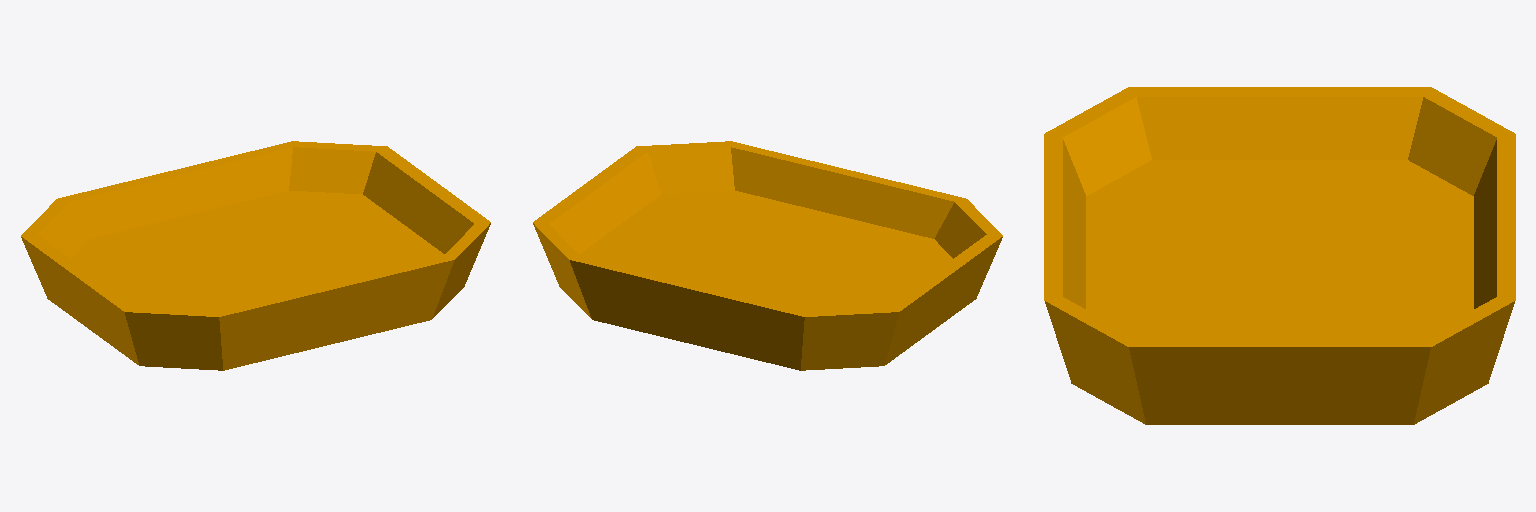
robot.urdf — bakingtray:
<?xml version="1.0"?>
<robot name="bakingtray">
  <link name="bakingtray">
    <inertial>
        <origin rpy="0 0 0" xyz="0 0 0"/>
        <mass value="0.01"/>
        <inertia ixx="0.01" ixy="0" ixz="0" iyy="0.077" iyz="0" izz="0.087"/>
    </inertial>
    <visual>
      <geometry>
        <mesh filename="./bakingtray_visual.obj"/>
      </geometry>
    </visual>
    <collision>
      <geometry>
        <mesh filename="./bakingtray_collision.obj"/>
      </geometry>
    </collision>
  </link>
</robot>

--- What the picture shows (computed from the rendered views, not written in the file) ---
3 views of the same robot in one strip: view 1: azimuth 30°, elevation 25°; view 2: azimuth 150°, elevation 25°; view 3: azimuth 270°, elevation 25° (orthographic).
Robot: bakingtray — 1 links, 0 joints (none); root link bakingtray; default pose: all joints at 0.
Visible links, largest first — view 1: bakingtray; view 2: bakingtray; view 3: bakingtray.
Boxes of the visible links, x1=… form: bakingtray: x1=21, y1=141, x2=490, y2=370; bakingtray: x1=533, y1=141, x2=1002, y2=370; bakingtray: x1=1044, y1=87, x2=1515, y2=424.
Size in the robot's own frame: 0.4965 by 0.3795 by 0.0824 metres.
Meshes: 1 distinct files referenced, 1 mesh visuals loaded (1 OBJ).
